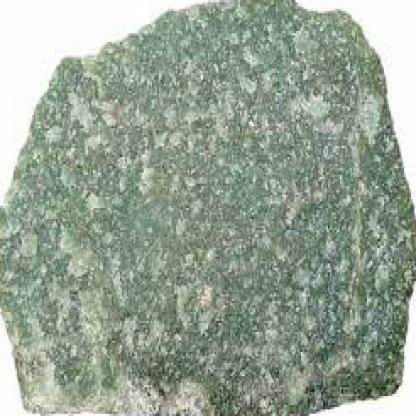Metamorphic_Quartize: (0, 0, 415, 412)
